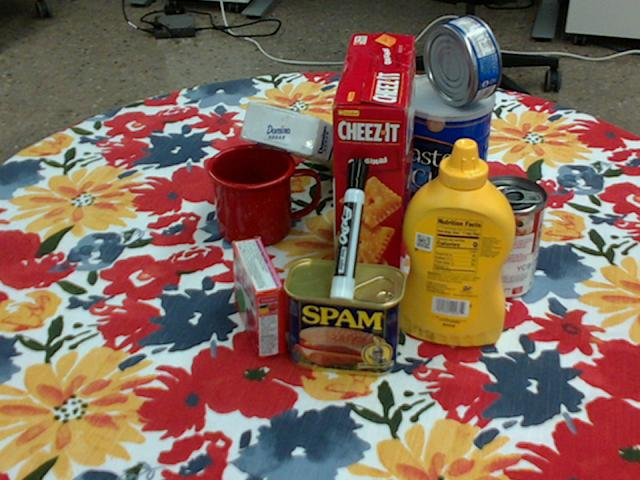cracker_box: (332, 33, 418, 310)
gelatin_box: (234, 236, 285, 357)
large_marker: (331, 156, 368, 300)
master_chef_can: (393, 73, 494, 232)
mug: (208, 143, 321, 248)
mustard_bottle: (399, 138, 516, 347)
potted_meat_can: (284, 258, 407, 376)
sugar_box: (242, 102, 385, 179)
tomato_soup_can: (467, 175, 547, 299)
tuna_fish_can: (422, 15, 501, 105)
